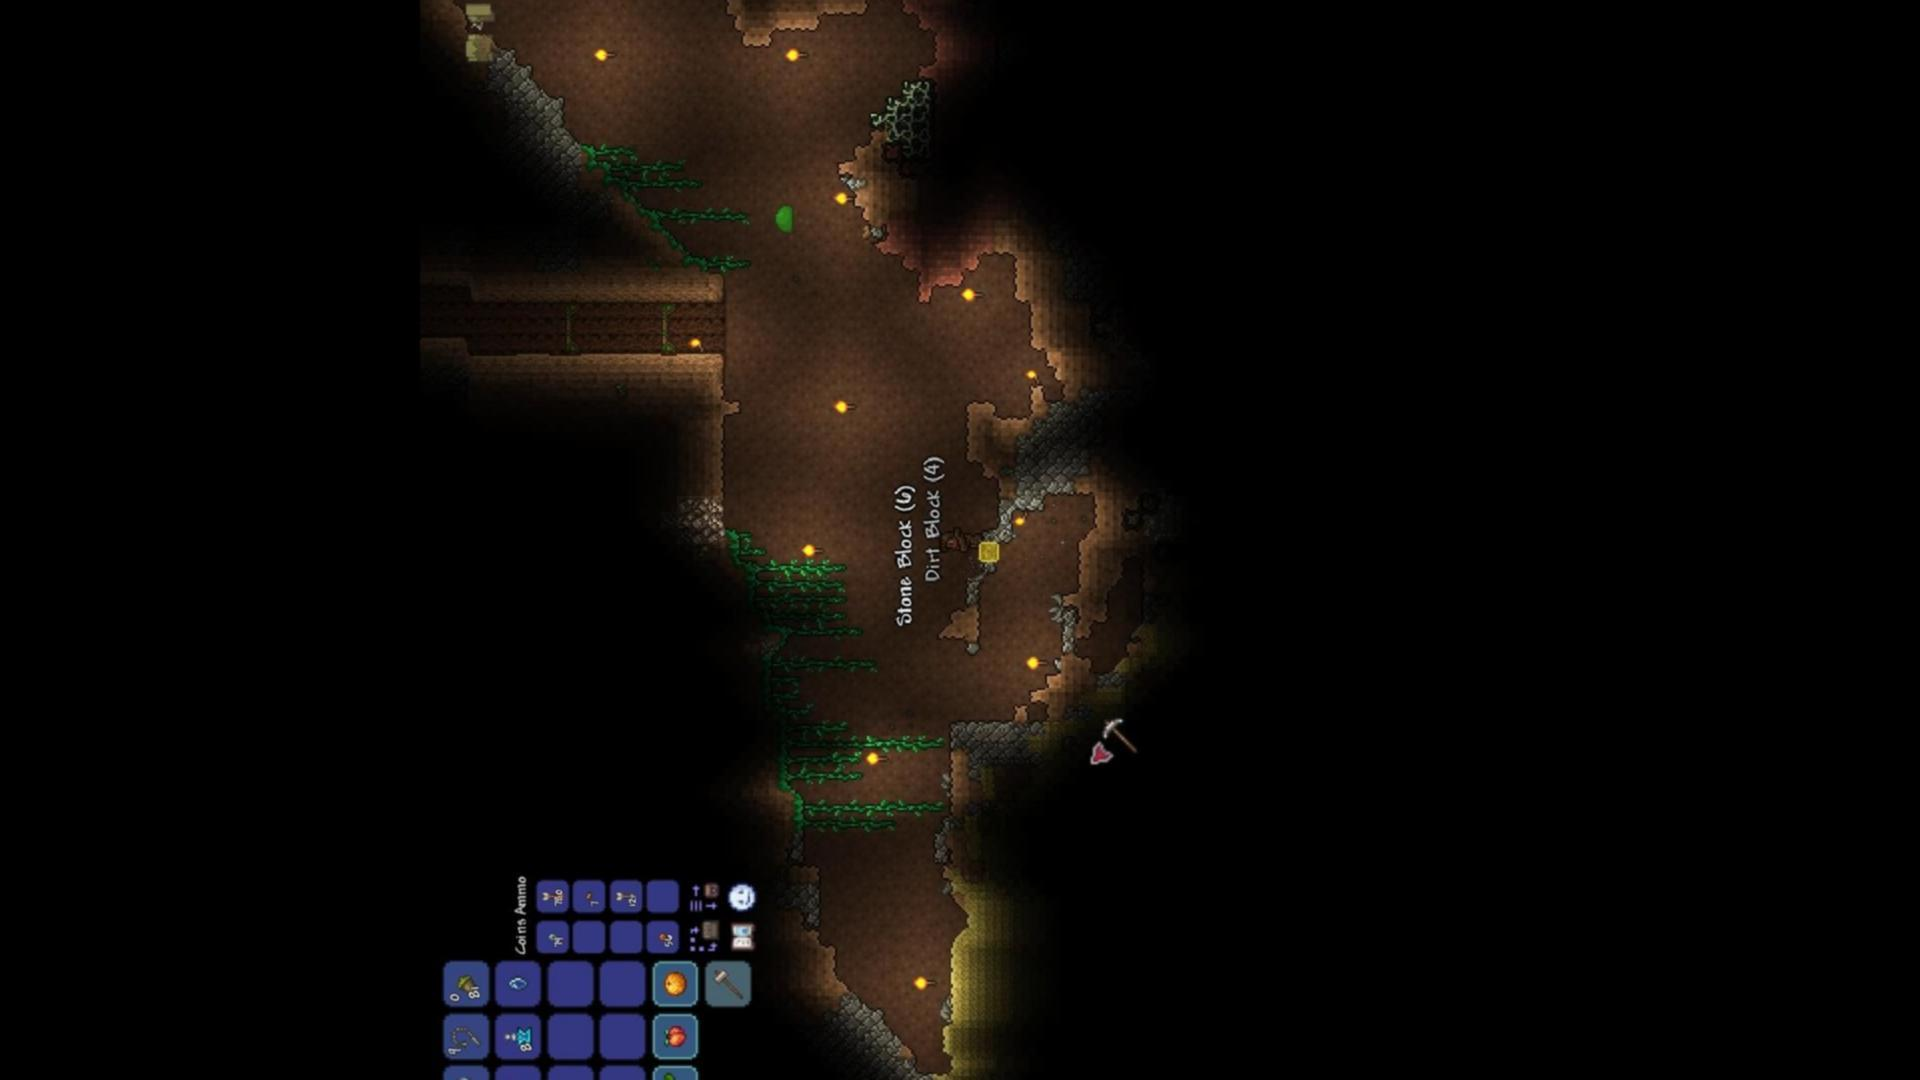pickaxe: (1100, 708, 1142, 754)
recallP: (500, 1023, 535, 1047)
slime: (770, 199, 798, 232)
